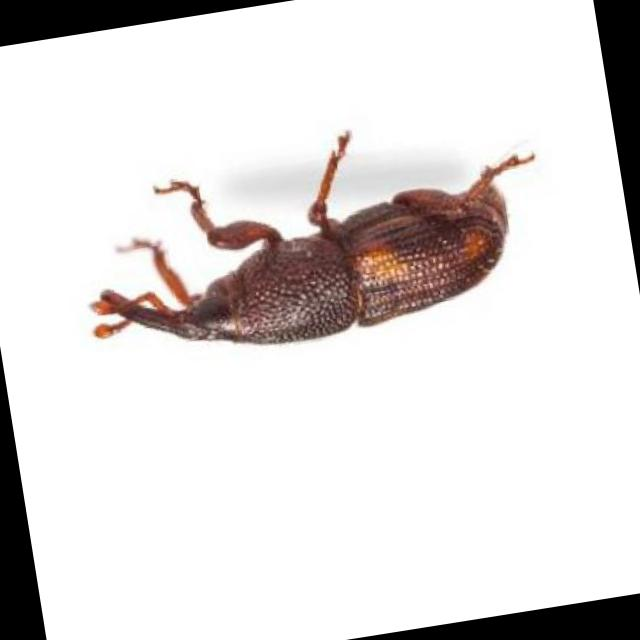rice-bug: (86, 125, 546, 380)
